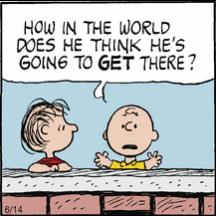charlie: (93, 104, 163, 168)
